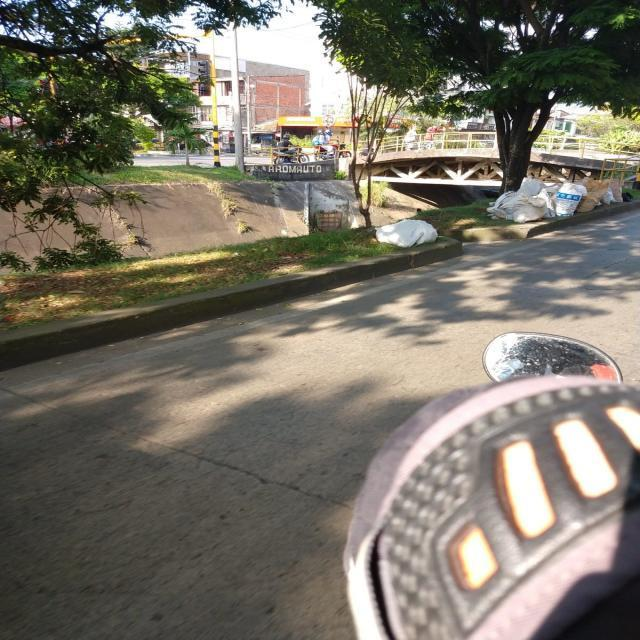Garbage_Bag: (370, 214, 444, 250), (552, 182, 588, 218), (577, 177, 609, 214), (512, 196, 546, 222), (604, 177, 626, 203)
